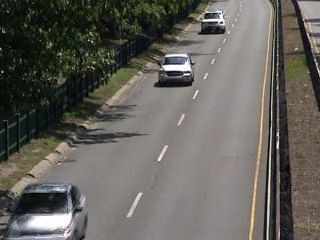car: (6, 177, 94, 240), (155, 51, 200, 87), (198, 9, 228, 34)
